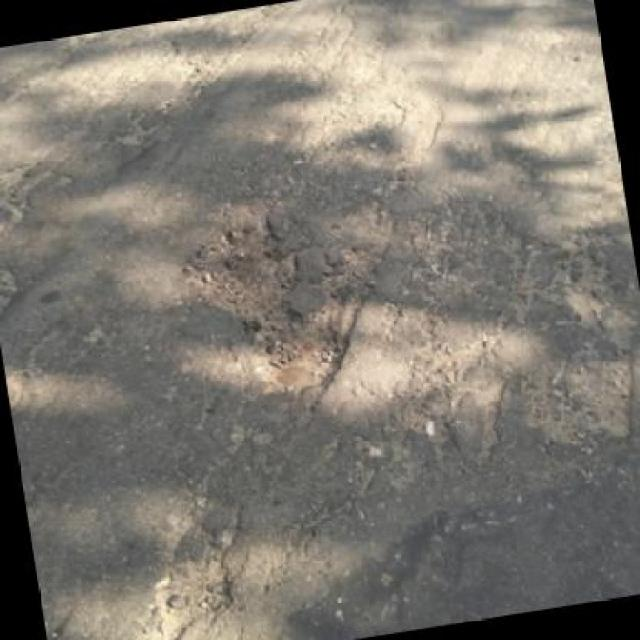pothole1: (170, 212, 307, 322), (102, 551, 249, 638), (237, 302, 351, 401)
